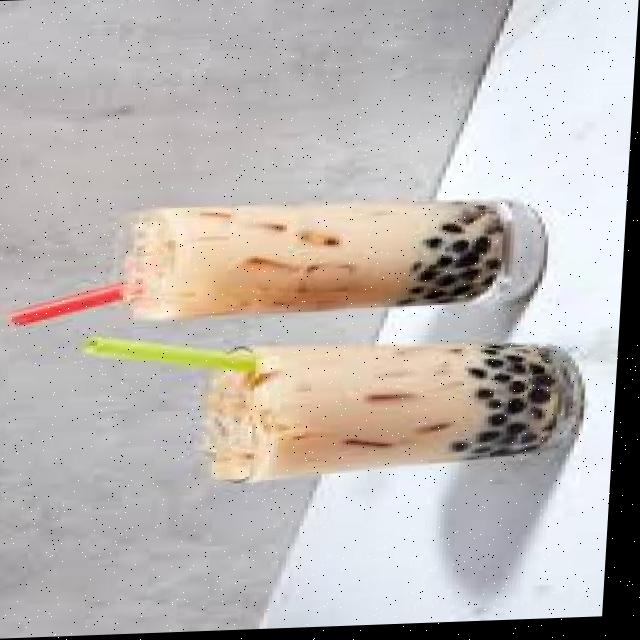cup: (213, 348, 585, 483), (125, 203, 547, 320)
